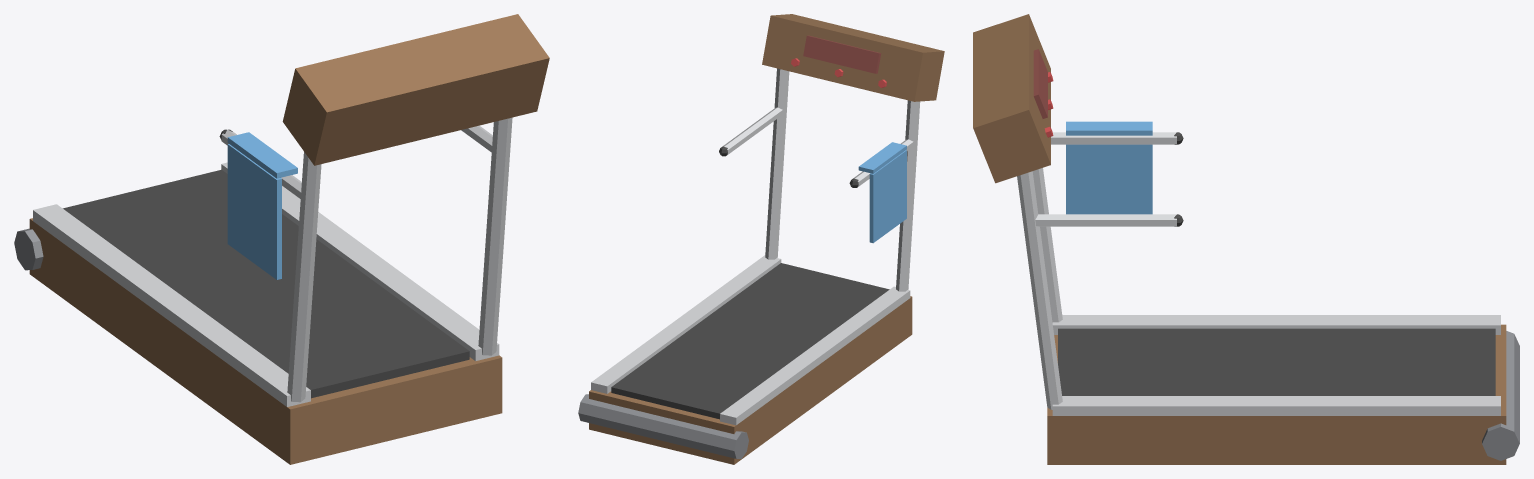
File: HJ_Cinta.fbx
3 views of the same model, side by side, from view 1: azimuth 30°, elevation 25°; view 2: azimuth 150°, elevation 25°; view 3: azimuth 270°, elevation 25° (orthographic). The views are drawn at different scales.
Visible parts, largest first — view 1: HJ_Cinta; view 2: HJ_Cinta; view 3: HJ_Cinta.
Part boxes in pixels (bbox=[...]): HJ_Cinta: bbox=[14, 14, 549, 464]; HJ_Cinta: bbox=[578, 14, 944, 464]; HJ_Cinta: bbox=[973, 14, 1519, 464].
Bounding box in the file's own units: 0.86 × 1.46 × 2.02.
